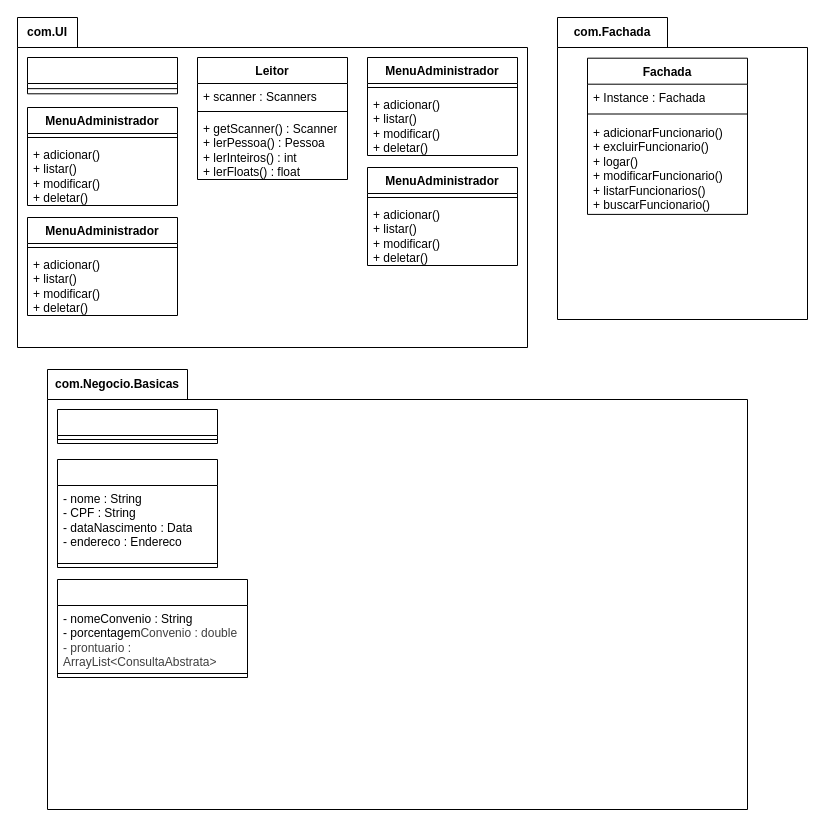
The diagram is 825 pixels wide and 835 high, and some of its shapes have lost their labels. The box of each missing label's shape, as (x1, y1, x2, y2) in pixels:
Console: (26, 56, 178, 94)
Funcionario: (56, 408, 218, 444)
Paciente: (56, 578, 248, 678)
Pessoa: (56, 458, 218, 568)
